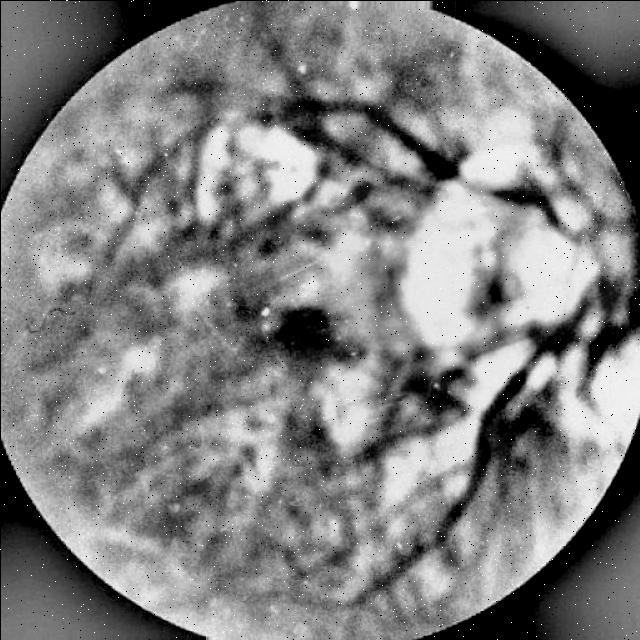Macula: (272, 313, 351, 372)
Nerves: (441, 327, 570, 532), (422, 152, 589, 249)
Optic Disk: (559, 178, 640, 430)
